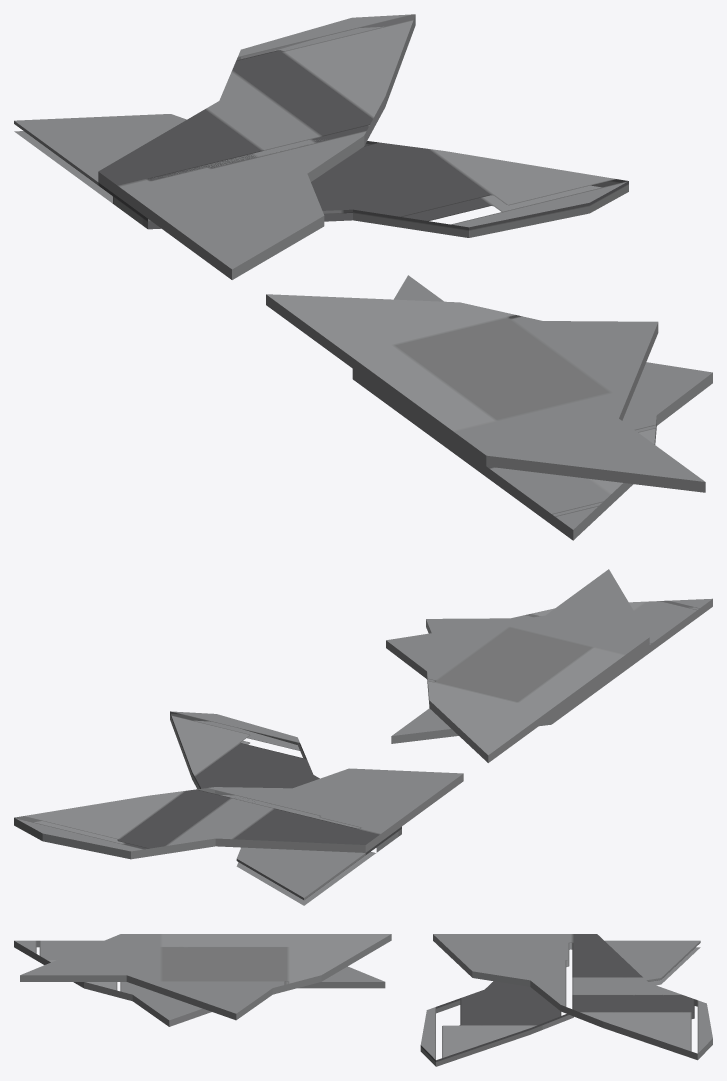
3 views of the same model, one above another, from view 1: azimuth 30°, elevation 25°; view 2: azimuth 150°, elevation 25°; view 3: azimuth 270°, elevation 25° (orthographic). The views are drawn at different scales.
Bounding box in the file's own units: 0.8556 × 0.0442 × 2.11.
